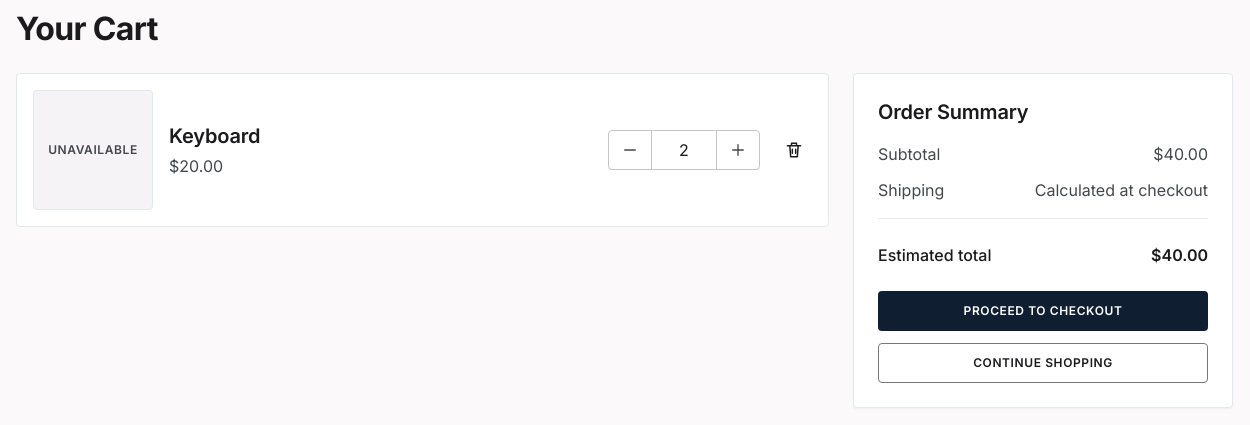
Scenario: CartView › never surfaces a raw exception message when changing quantity fails
Expected: the link "Keyboard" is shown, x1=169 y1=124 x2=260 y2=148
Click the button named "Increase quantity for Keyboard": x=738, y=150 x1=716 y1=131 x2=759 y2=169
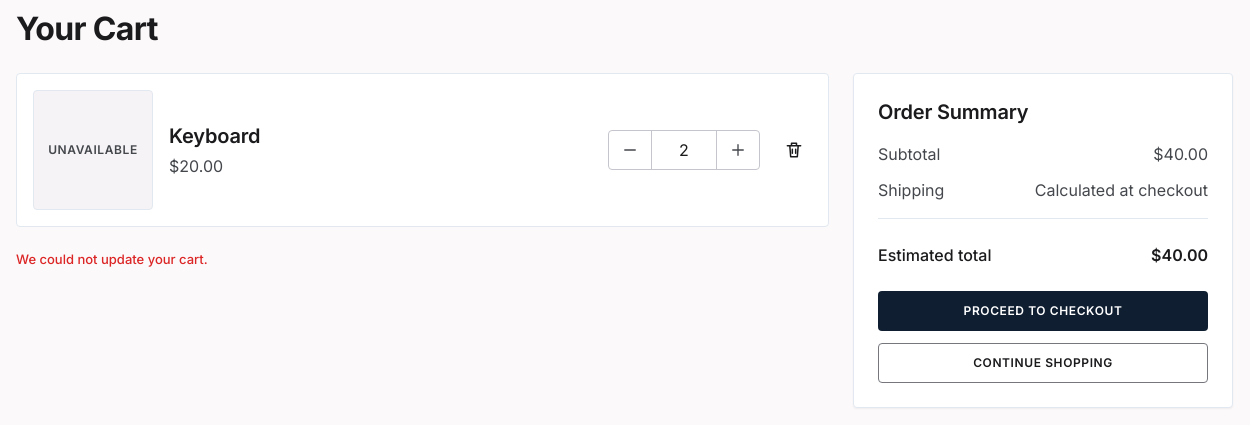
Now the text "We could not update your cart." is shown, box x1=16 y1=251 x2=208 y2=267
